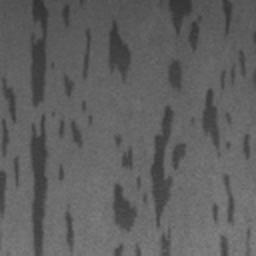Red iron sheet: (0, 0, 132, 256), (113, 105, 187, 256), (201, 49, 250, 160), (212, 175, 234, 255), (168, 0, 200, 51), (168, 61, 183, 92), (221, 1, 234, 35), (64, 210, 74, 252)
